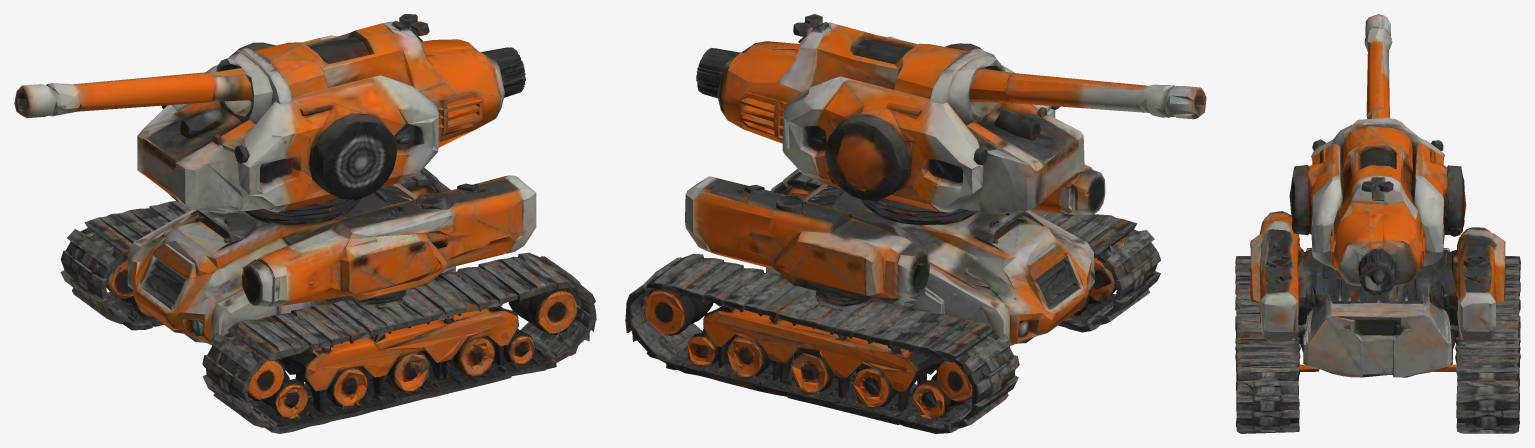
The model's file is mx_wz_artillery.glb.
3 renders of one model, left to right at view 1: azimuth 30°, elevation 25°; view 2: azimuth 150°, elevation 25°; view 3: azimuth 270°, elevation 25°, orthographic. The views are drawn at different scales.
Bounding box in the file's own units: 1.9 × 1.18 × 1.22.
Materials: 1 (1 with a texture image).
